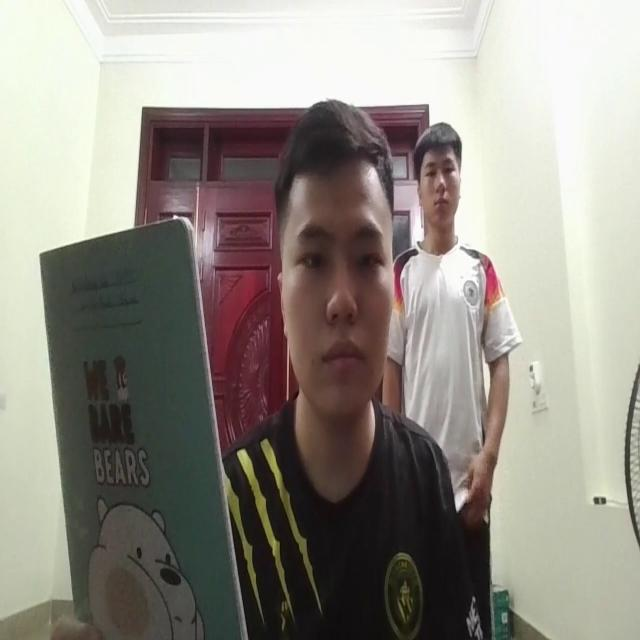book: (48, 209, 248, 640)
extra_person: (392, 112, 504, 518)
student: (224, 99, 431, 640)
